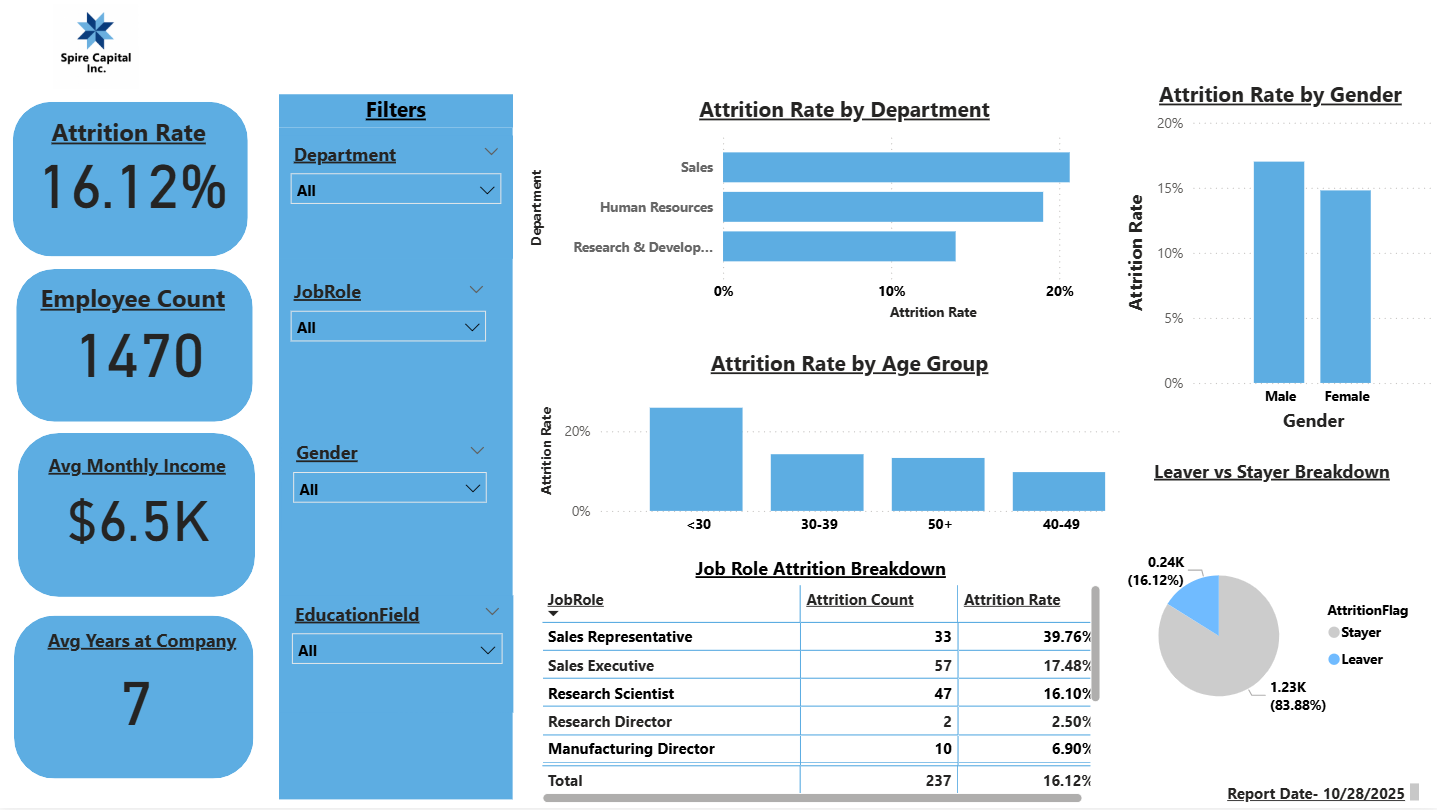

Layout of this report page (visuals, bound fields, positions):
{"tool":"powerbi","page":{"name":"Overview","canvas":[1280,720],"ordinal":0},"visuals":[{"type":"group","id":"g1","title":"Attrition Rate Card","box":[10.1,81,216.9,159.1],"z":0},{"type":"shape","box":[12.3,92.5,209,137.5],"z":0,"group":"g1"},{"type":"shape","box":[14.7,239.7,212.3,137.9],"z":0,"group":"g2"},{"type":"shape","box":[16.7,386.7,210.9,145.7],"z":0,"group":"g3"},{"type":"shape","box":[13.8,548.7,213,145.2],"z":0,"group":"g4"},{"type":"card","fields":{"Values":["Measure Table.Attrition Rate"]},"box":[10.1,81,216.9,159.1],"z":1000,"group":"g1"},{"type":"group","id":"g2","title":"Employee Count Card","box":[11.6,228.5,227,164.8],"z":1000},{"type":"card","fields":{"Values":["Measure Table.Employee Count"]},"box":[11.6,228.5,227,164.8],"z":1000,"group":"g2"},{"type":"card","fields":{"Values":["Measure Table.Avg Monthly Income"]},"box":[14.5,374.5,218.9,168.5],"z":1000,"group":"g3"},{"type":"card","fields":{"Values":["Measure Table.Avg Years at Company"]},"box":[11.6,536.5,221,167.9],"z":1000,"group":"g4"},{"type":"textbox","box":[22.5,98.7,186.1,39.8],"z":2000,"group":"g1"},{"type":"textbox","box":[25,245.9,189,39.9],"z":2000,"group":"g2"},{"type":"group","id":"g3","title":"AVG Monthly Income Card","box":[14.5,374.5,218.3,167.7],"z":2000},{"type":"textbox","box":[21.4,398.6,203.3,55.8],"z":2000,"group":"g3"},{"type":"textbox","box":[30.4,554.2,194.1,64.2],"z":2000,"group":"g4"},{"type":"group","id":"g4","title":"Avg Years at Company","box":[11.6,536.5,221.2,167.7],"z":3000},{"type":"group","id":"g5","title":"Slicers","box":[248.6,85.5,208.1,627],"z":4000},{"type":"clusteredBarChart","fields":{"Y":["Measure Table.Attrition Rate"],"Category":["Employees.Department"]},"box":[467.5,85,567.5,206.2],"z":5000},{"type":"columnChart","title":"Attrition Rate by Age Group","fields":{"Category":["Employees.AgeGroup"],"Y":["Measure Table.Attrition Rate"]},"box":[476.2,311.2,558.8,175],"z":6000},{"type":"pieChart","title":"Leaver vs Stayer Breakdown","fields":{"Category":["Employees.AttritionFlag"],"Y":["CountNonNull(Employees.AttritionFlag)"]},"box":[983.8,408.8,296.2,295],"z":7000},{"type":"columnChart","fields":{"Y":["Measure Table.Attrition Rate"],"Category":["Employees.Gender"]},"box":[997.5,72.5,282.5,318.8],"z":8000},{"type":"shape","title":"Filters","box":[248.6,85.5,207.7,627],"z":8000,"group":"g5"},{"type":"slicer","fields":{"Values":["Employees.Department"]},"box":[248.6,122.1,207.7,109.9],"z":9000,"group":"g5"},{"type":"tableEx","title":"Job Role Attrition Breakdown","fields":{"Values":["Employees.JobRole","Measure Table.Attrition Count","Measure Table.Attrition Rate"]},"box":[476.2,495,507.5,225],"z":9000},{"type":"slicer","fields":{"Values":["Employees.JobRole"]},"box":[249.1,244.2,194.2,104.3],"z":9500,"group":"g5"},{"type":"slicer","fields":{"Values":["Employees.Gender"]},"box":[250.6,387.7,192.8,85.5],"z":10000,"group":"g5"},{"type":"textbox","box":[1082.5,693.8,185,26.2],"z":10000},{"type":"slicer","fields":{"Values":["Employees.EducationField"]},"box":[249.5,531.1,207.2,104.3],"z":10500,"group":"g5"},{"type":"image","box":[0,0,172.5,85.5],"z":11000}]}

Visuals, with their boxes in screenshot pixels (x1, y1, x2, y2), scaled from the page's 1280x720 canvas onto the 1437x810 screenshot:
"Attrition Rate Card" group: left=11, top=91, right=255, bottom=270
shape: left=14, top=104, right=248, bottom=259
shape: left=17, top=270, right=255, bottom=425
shape: left=19, top=435, right=256, bottom=599
shape: left=15, top=617, right=255, bottom=781
card - Measure Table.Attrition Rate: left=11, top=91, right=255, bottom=270
"Employee Count Card" group: left=13, top=257, right=268, bottom=442
card - Measure Table.Employee Count: left=13, top=257, right=268, bottom=442
card - Measure Table.Avg Monthly Income: left=16, top=421, right=262, bottom=611
card - Measure Table.Avg Years at Company: left=13, top=604, right=261, bottom=792
textbox: left=25, top=111, right=234, bottom=156
textbox: left=28, top=277, right=240, bottom=322
"AVG Monthly Income Card" group: left=16, top=421, right=261, bottom=610
textbox: left=24, top=448, right=252, bottom=511
textbox: left=34, top=623, right=252, bottom=696
"Avg Years at Company" group: left=13, top=604, right=261, bottom=792
"Slicers" group: left=279, top=96, right=513, bottom=802
clusteredBarChart - Measure Table.Attrition Rate x Employees.Department: left=525, top=96, right=1162, bottom=328
"Attrition Rate by Age Group" columnChart: left=535, top=350, right=1162, bottom=547
"Leaver vs Stayer Breakdown" pieChart: left=1104, top=460, right=1436, bottom=792
columnChart - Measure Table.Attrition Rate x Employees.Gender: left=1120, top=82, right=1436, bottom=440
"Filters" shape: left=279, top=96, right=512, bottom=802
slicer - Employees.Department: left=279, top=137, right=512, bottom=261
"Job Role Attrition Breakdown" tableEx: left=535, top=557, right=1104, bottom=809
slicer - Employees.JobRole: left=280, top=275, right=498, bottom=392
slicer - Employees.Gender: left=281, top=436, right=498, bottom=532
textbox: left=1215, top=781, right=1423, bottom=809
slicer - Employees.EducationField: left=280, top=597, right=513, bottom=715
image: left=0, top=0, right=194, bottom=96
